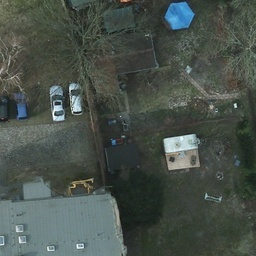car: (50, 87, 67, 122), (14, 88, 31, 120), (69, 83, 84, 116), (1, 91, 10, 122)
